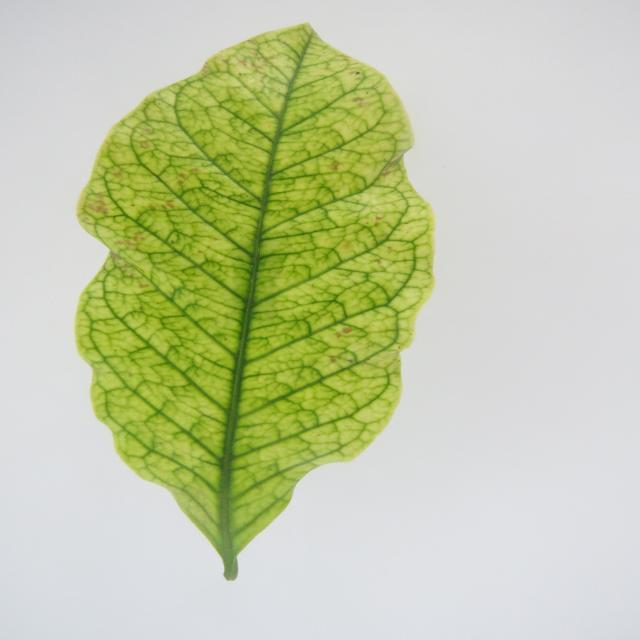DeficienciaNutricional-Hierro: (76, 26, 434, 579)
